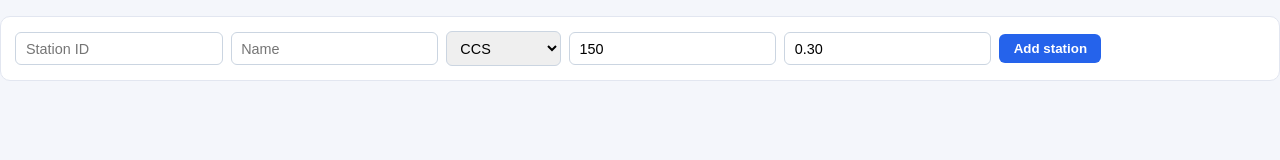
Test case: RegisterStationForm › validates that id and name are required
This screenshot has width=1280, height=160.
Click the button "Add station".
click(1050, 49)  # box [999,34,1101,63]
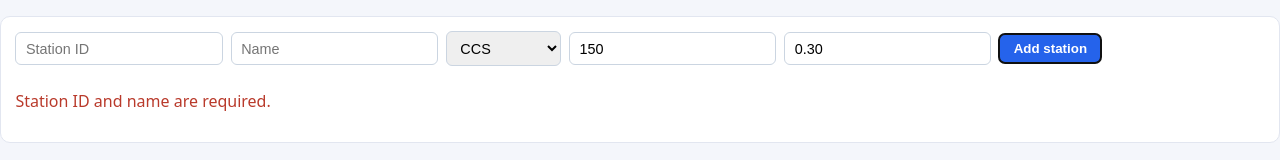
Now the message shows "required", box [15,90,271,112]
